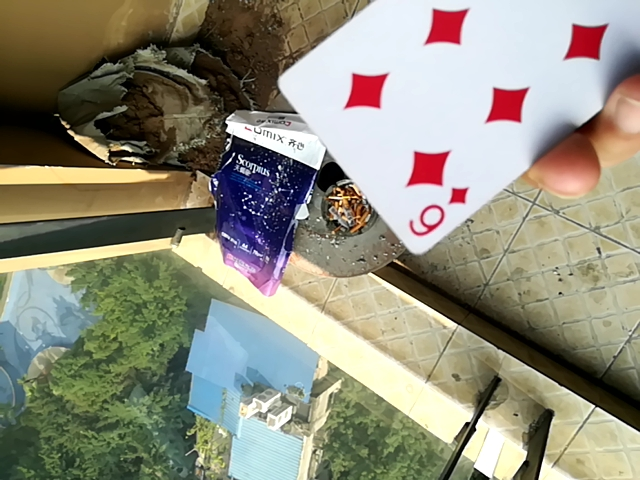fk 6: (264, 0, 639, 256)
